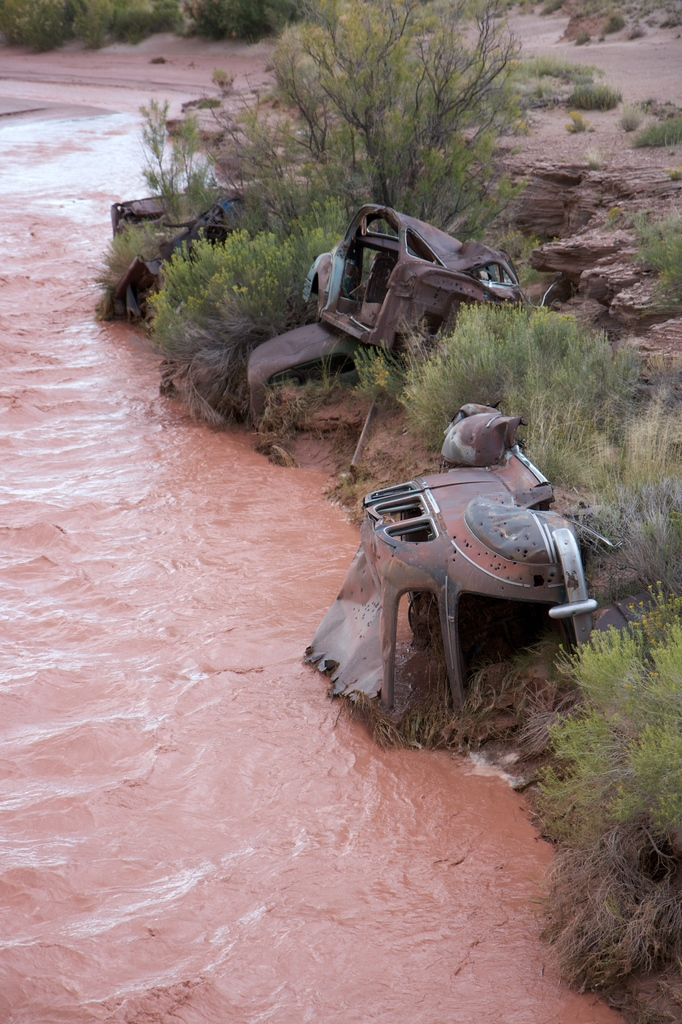Car: (322, 460, 548, 723)
